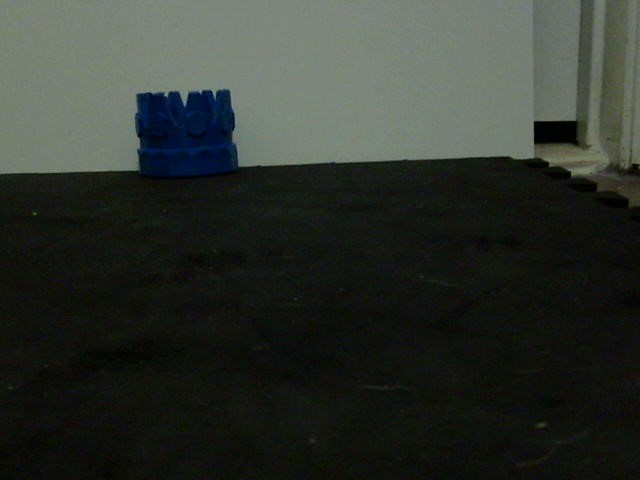crown: (130, 89, 243, 179)
